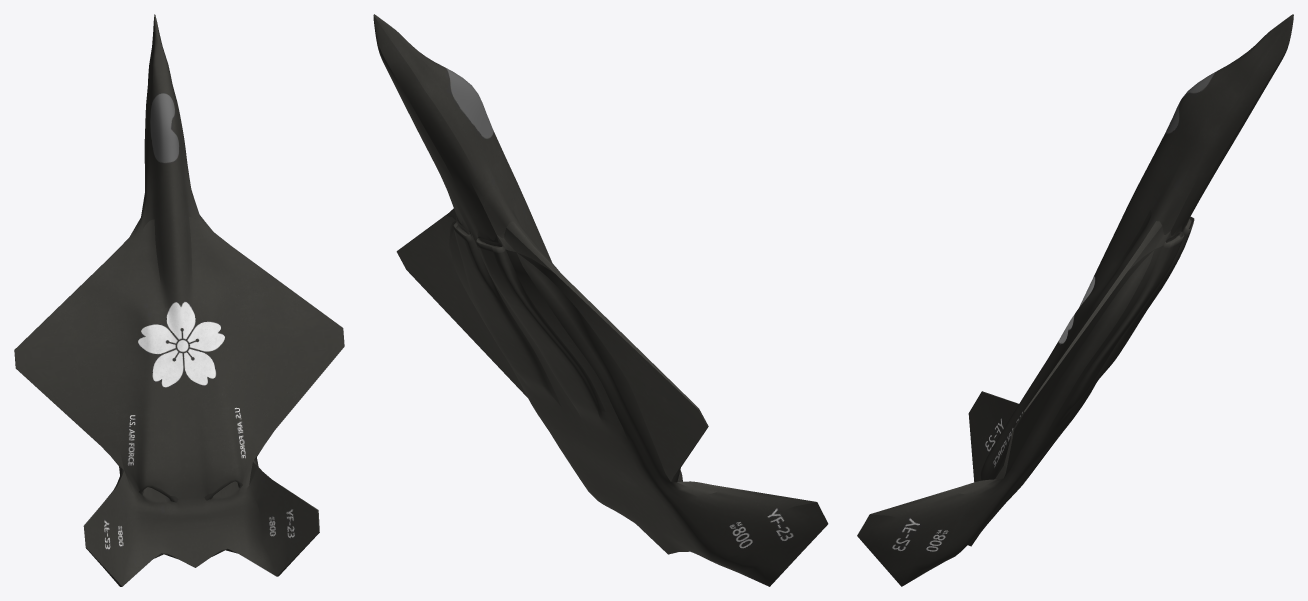
The picture shows the model from 3 angles, left to right: view 1: azimuth 30°, elevation 25°; view 2: azimuth 150°, elevation 25°; view 3: azimuth 270°, elevation 25°; orthographic projection. The views are drawn at different scales.
Parts seen in each view (by area): view 1: highpoly.002; view 2: highpoly.002; view 3: highpoly.002.
Part boxes in pixels (box(x1,y1,x2,y2)): highpoly.002: box(14, 14, 344, 586); highpoly.002: box(373, 14, 828, 586); highpoly.002: box(857, 14, 1293, 586).
Size of the model in its own units: 3.22 by 4.94 by 3.32.
1 material, 1 textured.
